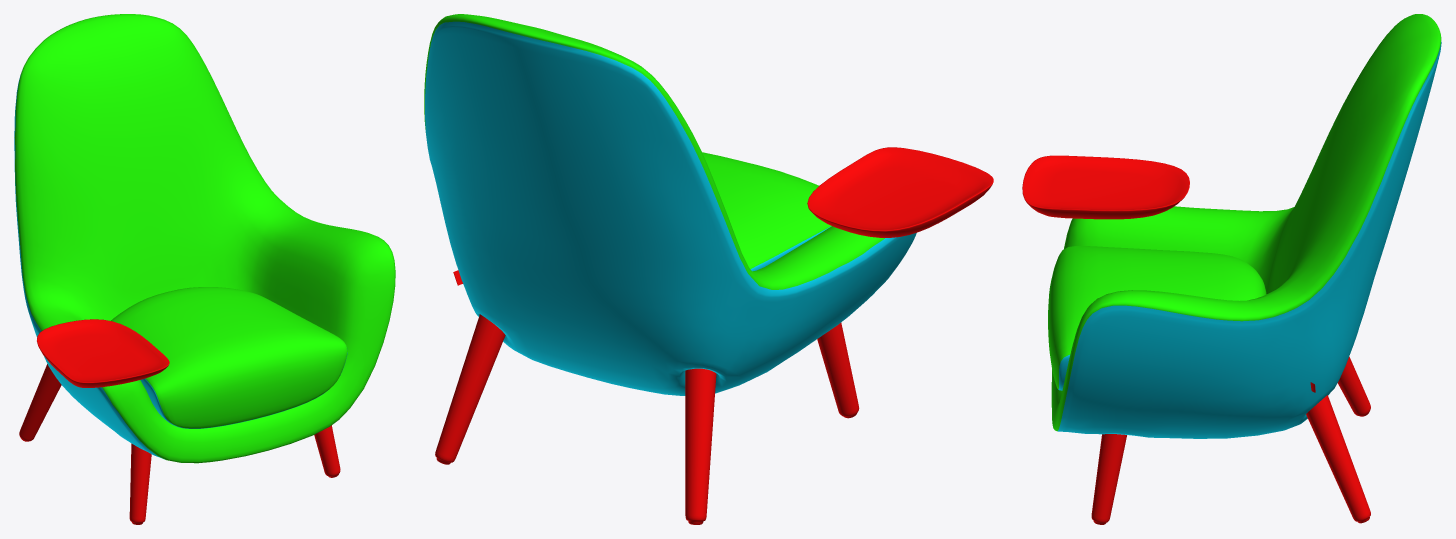
File: Mad_King_Tray.FBX
The picture shows the model from 3 angles, left to right: view 1: azimuth 30°, elevation 25°; view 2: azimuth 150°, elevation 25°; view 3: azimuth 270°, elevation 25°; orthographic projection. The views are drawn at different scales.
Parts seen in each view (by area): view 1: Mad_King_Tray, Mad_King_Tray_Tray; view 2: Mad_King_Tray, Mad_King_Tray_Tray; view 3: Mad_King_Tray, Mad_King_Tray_Tray.
Part boxes in pixels (box(x1,y1,x2,y2)): Mad_King_Tray: box(14, 14, 395, 524); Mad_King_Tray_Tray: box(37, 319, 169, 387); Mad_King_Tray: box(424, 14, 916, 524); Mad_King_Tray_Tray: box(807, 147, 993, 237); Mad_King_Tray: box(1048, 14, 1441, 524); Mad_King_Tray_Tray: box(1022, 155, 1189, 219).
Bounding box in the file's own units: 1.02 × 0.9409 × 1.07.
